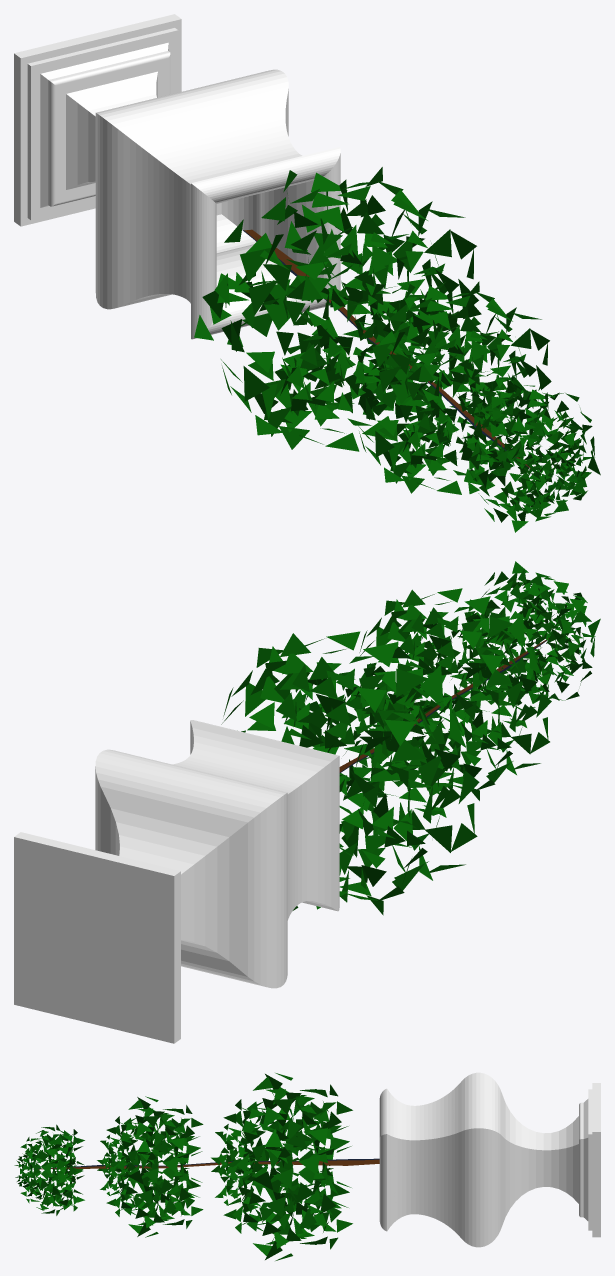
3 renders of one model, top to bottom at view 1: azimuth 30°, elevation 25°; view 2: azimuth 150°, elevation 25°; view 3: azimuth 270°, elevation 25°, orthographic. The views are drawn at different scales.
Parts seen in each view (by area): view 1: indoor plant; view 2: indoor plant; view 3: indoor plant.
Boxes of the visible parts, <box> form: indoor plant: <box>14,14,600,532</box>; indoor plant: <box>14,561,600,1043</box>; indoor plant: <box>14,1072,600,1260</box>.
Bounding box in the file's own units: 32.1 × 32.66 × 106.
